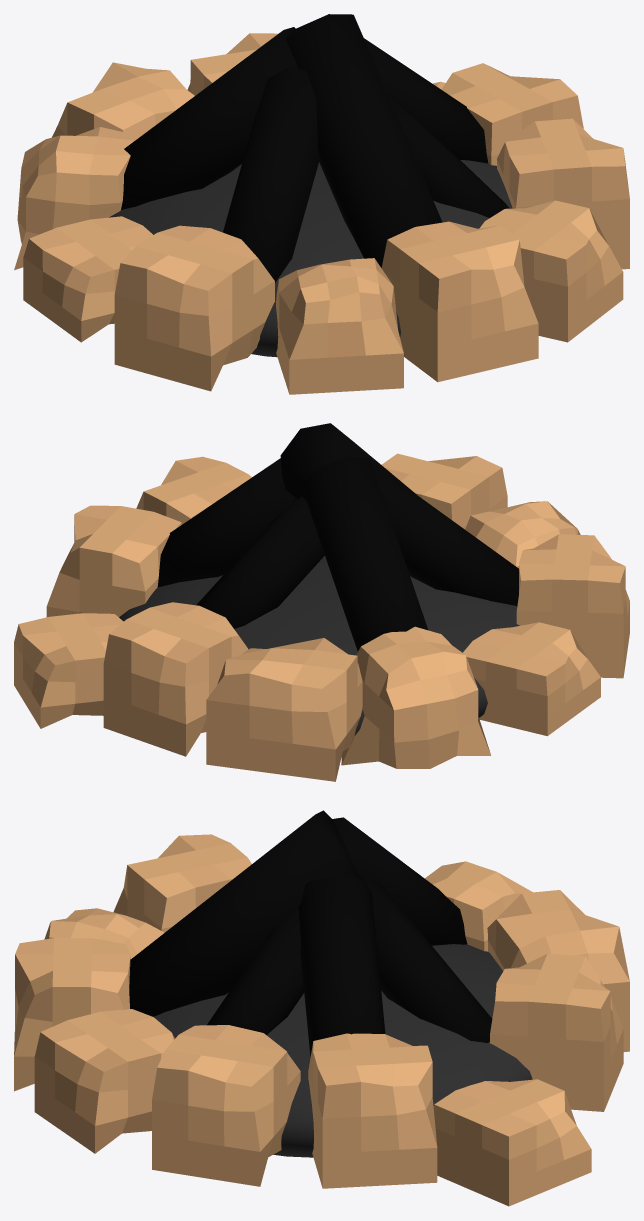
File: fogata.fbx
3 views of the same model, one above another, from view 1: azimuth 30°, elevation 25°; view 2: azimuth 150°, elevation 25°; view 3: azimuth 270°, elevation 25° (orthographic). The views are drawn at different scales.
Visible parts, largest first — view 1: Cube.011, Cube.009, Cylinder.004, Cube.010, Cylinder.008, Cylinder.007, Cube.008, Cube.007, Sphere, Cube.001, Cube.002, Cube.006 (+4 smaller); view 2: Cube.003, Cube.004, Cube.002, Cylinder.008, Sphere, Cube.011, Cube.001, Cube.006, Cube.005, Cylinder.007, Cylinder.005, Cylinder.009 (+4 smaller); view 3: Cube.007, Cube.006, Cylinder.004, Cube.005, Cube.004, Cube.008, Sphere, Cylinder.005, Cube.009, Cube.003, Cylinder.009, Cube.011 (+4 smaller).
Boxes of the visible parts, <box> form: Cube.011: <box>114,225,274,391</box>; Cube.009: <box>381,221,538,382</box>; Cylinder.004: <box>286,14,442,267</box>; Cube.010: <box>276,258,403,394</box>; Cylinder.008: <box>121,27,298,209</box>; Cylinder.007: <box>223,67,320,282</box>; Cube.008: <box>479,200,623,342</box>; Cube.007: <box>497,118,629,269</box>; Sphere: <box>109,160,512,357</box>; Cube.001: <box>23,216,152,342</box>; Cube.002: <box>14,127,133,270</box>; Cube.006: <box>441,63,583,165</box>; Cube.003: <box>206,638,362,781</box>; Cube.004: <box>103,602,248,756</box>; Cube.002: <box>341,626,491,768</box>; Cylinder.008: <box>301,456,428,651</box>; Sphere: <box>119,556,519,735</box>; Cube.011: <box>516,534,629,678</box>; Cube.001: <box>463,622,600,736</box>; Cube.006: <box>46,505,181,616</box>; Cube.005: <box>14,613,123,728</box>; Cylinder.007: <box>371,463,518,606</box>; Cylinder.005: <box>157,458,294,587</box>; Cylinder.009: <box>196,496,324,628</box>; Cube.007: <box>152,1025,300,1186</box>; Cube.006: <box>308,1033,437,1188</box>; Cylinder.004: <box>129,810,364,1016</box>; Cube.005: <box>433,1079,591,1206</box>; Cube.004: <box>490,953,623,1111</box>; Cube.008: <box>34,1009,174,1153</box>; Sphere: <box>153,944,532,1157</box>; Cylinder.005: <box>297,874,385,1057</box>; Cube.009: <box>14,938,130,1091</box>; Cube.003: <box>487,890,629,1051</box>; Cylinder.009: <box>364,878,492,1043</box>; Cube.011: <box>113,834,251,932</box>.
Size of the model in its own units: 3442 by 1825 by 3476.
